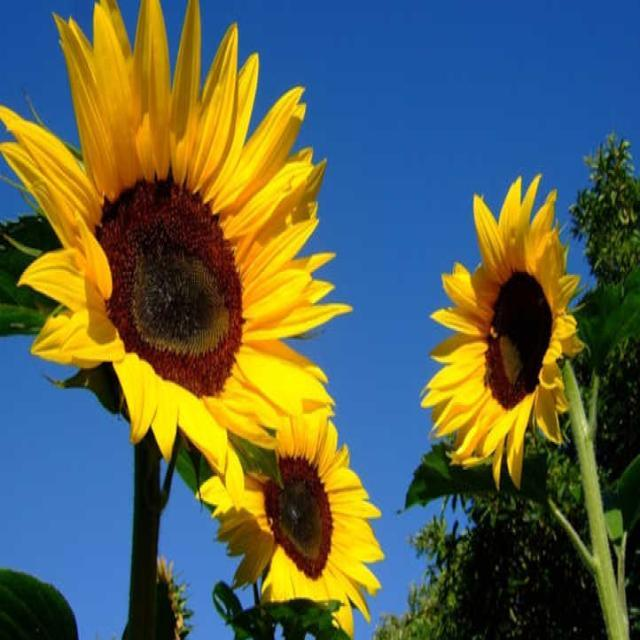sunflower: (0, 0, 353, 486), (419, 174, 585, 491), (198, 410, 384, 638)
